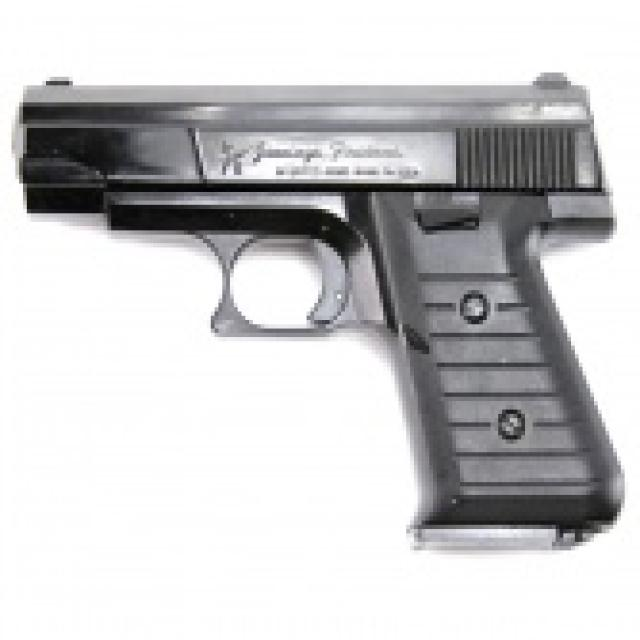pistol: (10, 62, 638, 561)
